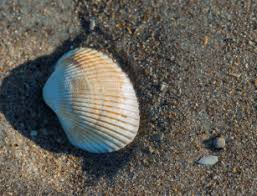cockle: (41, 45, 141, 154)
